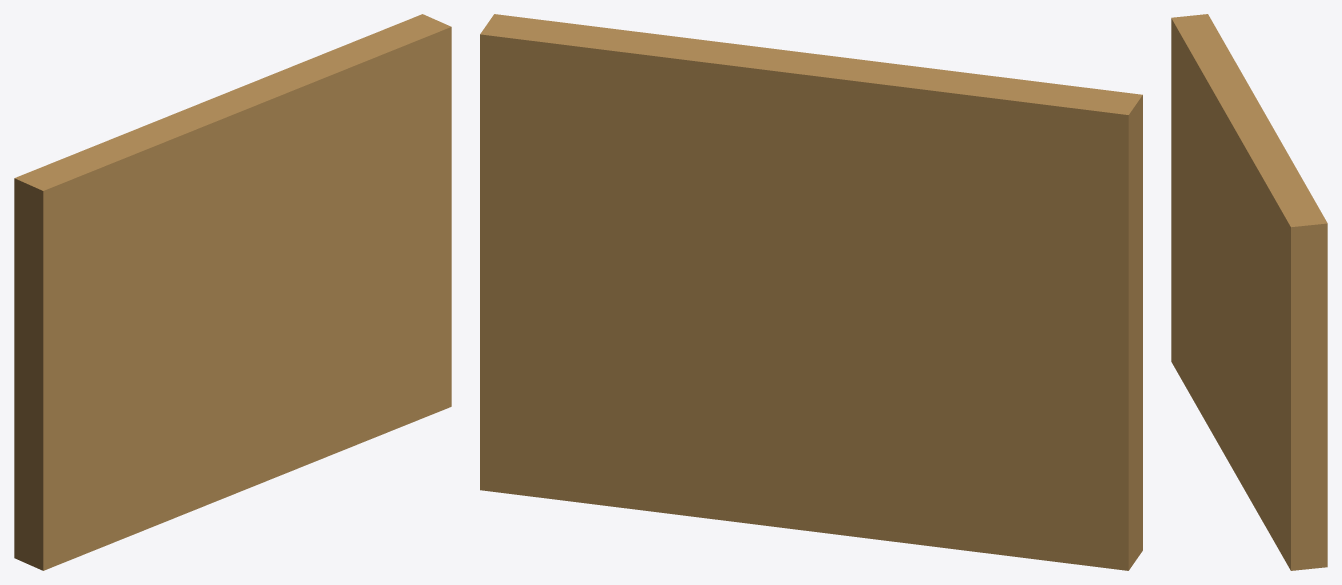
3 views of the same model, side by side, from view 1: azimuth 30°, elevation 25°; view 2: azimuth 150°, elevation 25°; view 3: azimuth 270°, elevation 25° (orthographic). The views are drawn at different scales.
Visible parts, largest first — view 1: FF-A-OPEN-03-01-SILL; view 2: FF-A-OPEN-03-01-SILL; view 3: FF-A-OPEN-03-01-SILL.
Boxes of the visible parts, box(x1,y1,x2,y2) form: FF-A-OPEN-03-01-SILL: box(14, 14, 451, 570); FF-A-OPEN-03-01-SILL: box(480, 14, 1142, 570); FF-A-OPEN-03-01-SILL: box(1171, 14, 1327, 570).
Bounding box in the file's own units: 1.2 × 0.9 × 0.3716.
